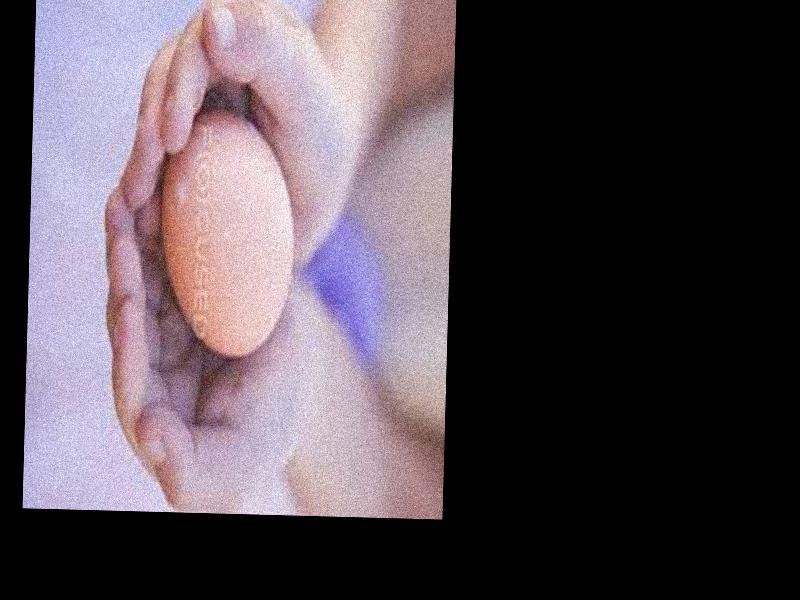Eggs: (157, 111, 298, 362)
